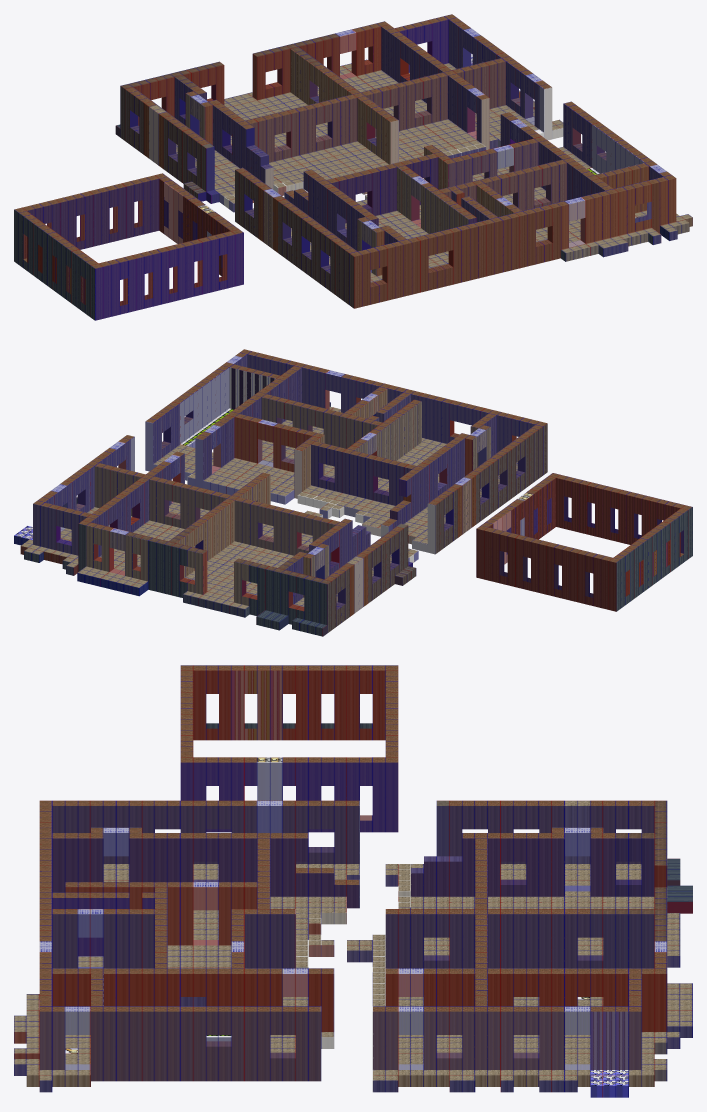
3 views of the same model, one above another, from view 1: azimuth 30°, elevation 25°; view 2: azimuth 150°, elevation 25°; view 3: azimuth 270°, elevation 25° (orthographic). The views are drawn at different scales.
Parts seen in each view (by area): view 1: Plano80x80P2; view 2: Plano80x80P2; view 3: Plano80x80P2.
Boxes of the visible parts, left/top/right/bottom form: Plano80x80P2: left=14, top=14, right=692, bottom=320; Plano80x80P2: left=14, top=349, right=692, bottom=636; Plano80x80P2: left=14, top=665, right=692, bottom=1097.
Size of the model in its own units: 67 by 6 by 53.
1 material, 1 textured.
